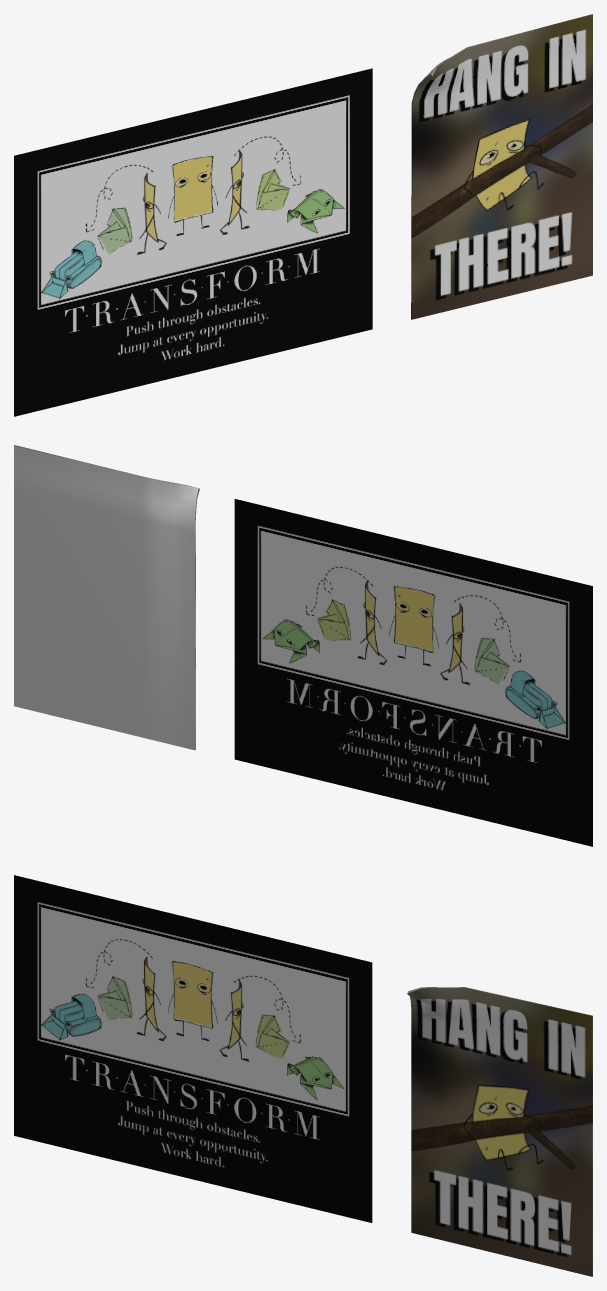
The model's file is posters.fbx.
The picture shows the model from 3 angles, top to bottom: view 1: azimuth 30°, elevation 25°; view 2: azimuth 150°, elevation 25°; view 3: azimuth 330°, elevation 25°; orthographic projection.
Visible parts, largest first — view 1: IMG_2838, IMG_2847; view 2: IMG_2838, IMG_2847; view 3: IMG_2838, IMG_2847.
Boxes of the visible parts, x1,y1,x2,y2 form: IMG_2838: (14, 68, 372, 416); IMG_2847: (411, 14, 592, 319); IMG_2838: (234, 499, 592, 846); IMG_2847: (14, 445, 199, 750); IMG_2838: (14, 875, 372, 1222); IMG_2847: (407, 987, 592, 1276).
Size of the model in its own units: 232 by 100 by 9.12.
